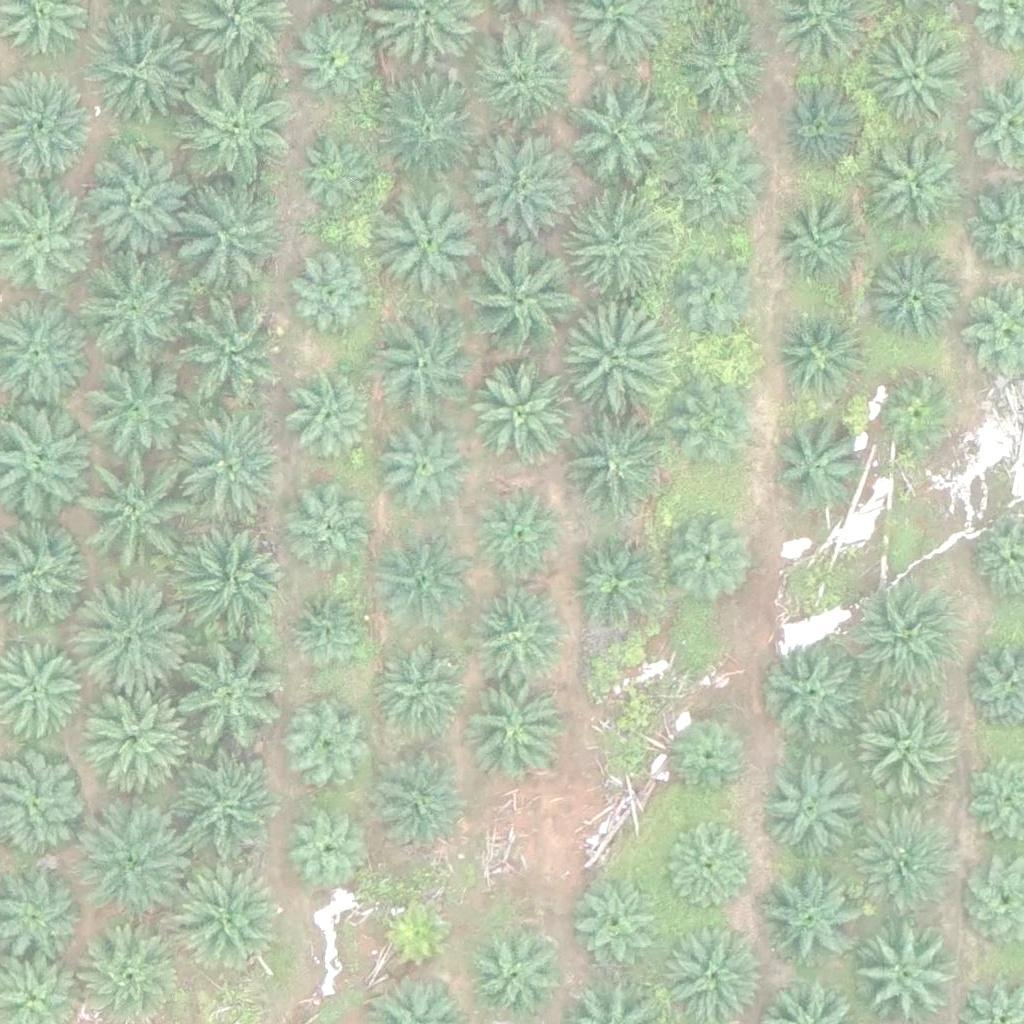Kelapa_Sawit: (79, 587, 192, 701), (85, 10, 198, 124), (177, 409, 290, 522), (173, 528, 286, 641), (166, 644, 279, 757), (564, 76, 677, 189), (557, 192, 670, 305), (78, 146, 191, 259), (165, 759, 277, 873), (169, 863, 281, 977), (474, 358, 586, 472), (179, 70, 291, 184), (847, 587, 959, 700), (560, 419, 672, 532), (79, 809, 191, 922), (79, 682, 191, 795), (86, 457, 198, 570), (564, 305, 676, 418), (465, 237, 577, 350), (461, 128, 573, 241), (374, 69, 486, 182), (375, 188, 487, 301), (364, 309, 476, 422), (170, 180, 282, 293), (175, 290, 287, 403), (77, 345, 189, 458), (76, 254, 188, 367), (763, 866, 863, 967), (469, 590, 569, 691), (465, 682, 565, 783), (466, 922, 566, 1023), (370, 638, 470, 739), (371, 747, 471, 848), (864, 249, 964, 350), (770, 417, 870, 518), (664, 137, 764, 238), (476, 33, 576, 134), (853, 812, 953, 912), (857, 688, 957, 788), (765, 644, 865, 744), (755, 768, 855, 868), (377, 412, 477, 512), (372, 541, 472, 641), (867, 35, 967, 135), (864, 139, 964, 239), (674, 23, 774, 123), (664, 816, 752, 905), (374, 888, 462, 976), (663, 519, 751, 607), (570, 879, 658, 967), (475, 486, 563, 574), (283, 804, 371, 892), (287, 696, 375, 784), (779, 81, 867, 169), (776, 318, 864, 406), (666, 714, 753, 802), (571, 542, 658, 630), (285, 588, 372, 676), (285, 483, 372, 571), (771, 198, 858, 286), (672, 253, 759, 341), (668, 369, 755, 457), (288, 371, 375, 459), (288, 247, 375, 335), (299, 14, 386, 102), (297, 137, 372, 213), (882, 372, 957, 448)
